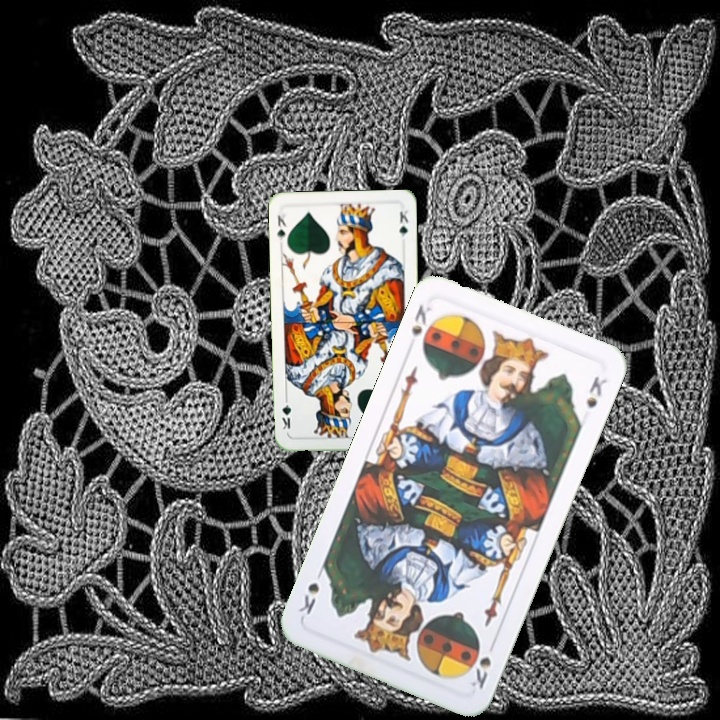GK: (273, 210, 289, 247)
SK: (464, 652, 494, 692), (407, 300, 435, 338)
